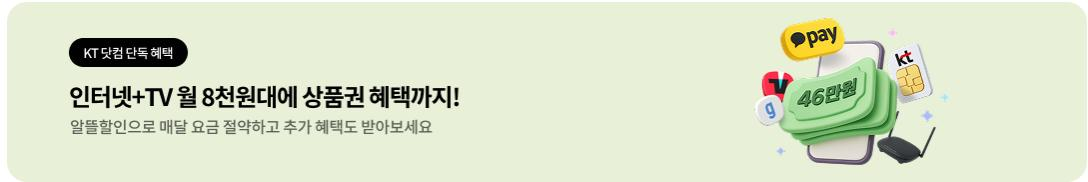button: (68, 38, 186, 68)
